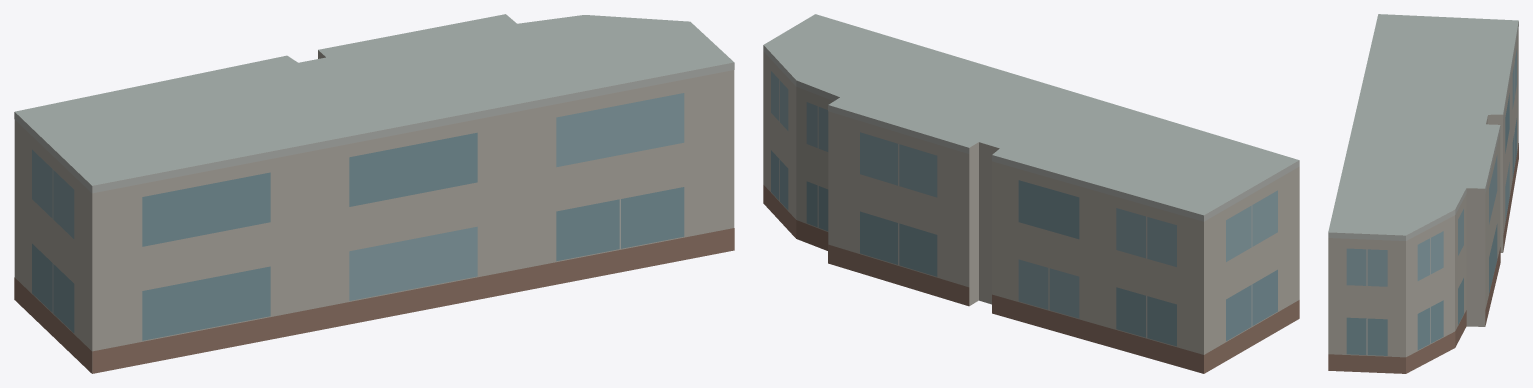
The model's file is survey-upis-32826888.glb.
3 renders of one model, left to right at view 1: azimuth 30°, elevation 25°; view 2: azimuth 150°, elevation 25°; view 3: azimuth 270°, elevation 25°, orthographic. The views are drawn at different scales.
Visible parts, largest first — view 1: survey-upis-32826888.tmp; view 2: survey-upis-32826888.tmp; view 3: survey-upis-32826888.tmp.
Boxes of the visible parts, x1=… form: survey-upis-32826888.tmp: x1=14, y1=14, x2=734, y2=373; survey-upis-32826888.tmp: x1=763, y1=14, x2=1299, y2=373; survey-upis-32826888.tmp: x1=1328, y1=14, x2=1518, y2=373.
Size of the model in its own units: 20.96 by 6.1 by 7.63.
